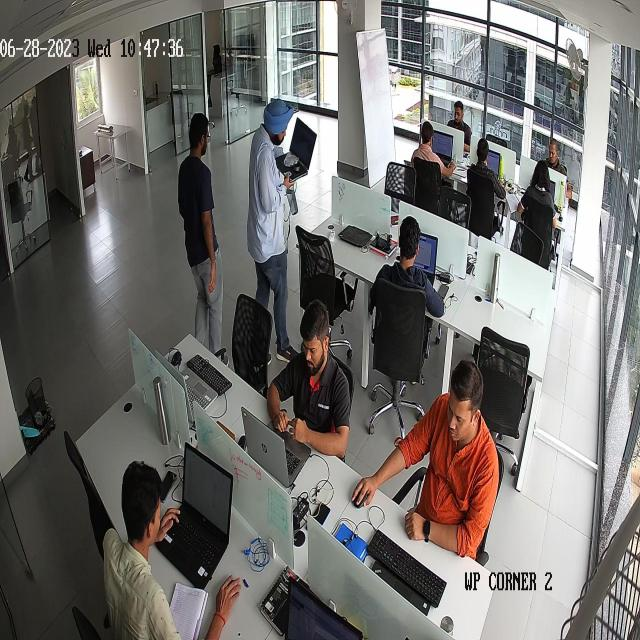chair: (366, 274, 452, 453), (393, 406, 479, 554), (468, 323, 528, 511), (290, 238, 362, 338), (54, 417, 110, 544), (212, 290, 258, 402), (66, 586, 102, 640)
keyboard: (369, 524, 449, 607), (186, 348, 234, 398)
laptop: (168, 444, 235, 580), (236, 393, 312, 486), (357, 548, 431, 620), (152, 349, 216, 418), (273, 116, 317, 180), (406, 226, 440, 278), (331, 212, 372, 250), (434, 130, 455, 164), (487, 141, 502, 179)
person: (353, 437, 485, 593), (244, 88, 304, 378), (248, 320, 354, 477), (168, 107, 231, 369), (103, 453, 187, 640), (382, 220, 446, 362), (402, 121, 441, 202), (520, 156, 551, 224), (548, 136, 574, 198), (470, 137, 495, 200)
phone: (157, 465, 178, 502), (310, 498, 331, 530), (438, 278, 450, 303)
